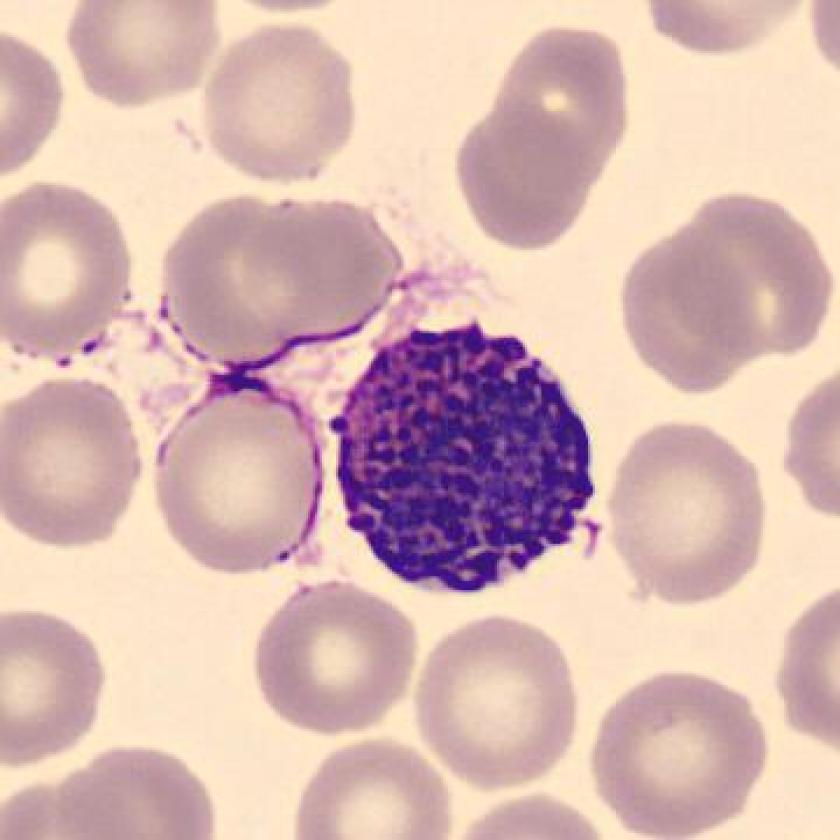basophil: (328, 320, 612, 603)
